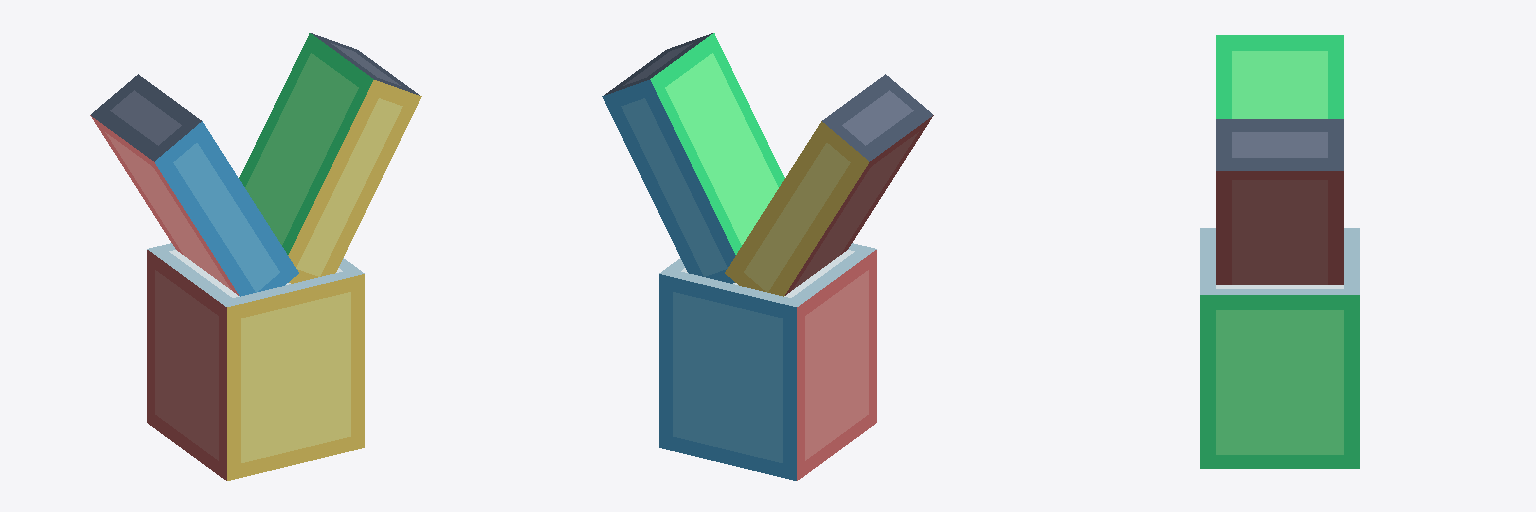
3 renders of one model, left to right at view 1: azimuth 30°, elevation 25°; view 2: azimuth 150°, elevation 25°; view 3: azimuth 270°, elevation 25°, orthographic.
Parts seen in each view (by area): view 1: base, lower_jaw, upper_jaw; view 2: base, lower_jaw, upper_jaw; view 3: base, lower_jaw, upper_jaw.
Part boxes in pixels (bbox=[...]): base: bbox=[147, 243, 364, 480]; lower_jaw: bbox=[239, 33, 421, 283]; upper_jaw: bbox=[90, 74, 298, 296]; base: bbox=[659, 243, 876, 480]; lower_jaw: bbox=[602, 33, 784, 283]; upper_jaw: bbox=[725, 74, 933, 296]; base: bbox=[1200, 228, 1359, 468]; lower_jaw: bbox=[1216, 119, 1343, 284]; upper_jaw: bbox=[1216, 35, 1343, 118].
Bounding box in the file's own units: 1.21 × 1.55 × 0.625.
1 materials, 1 textured.